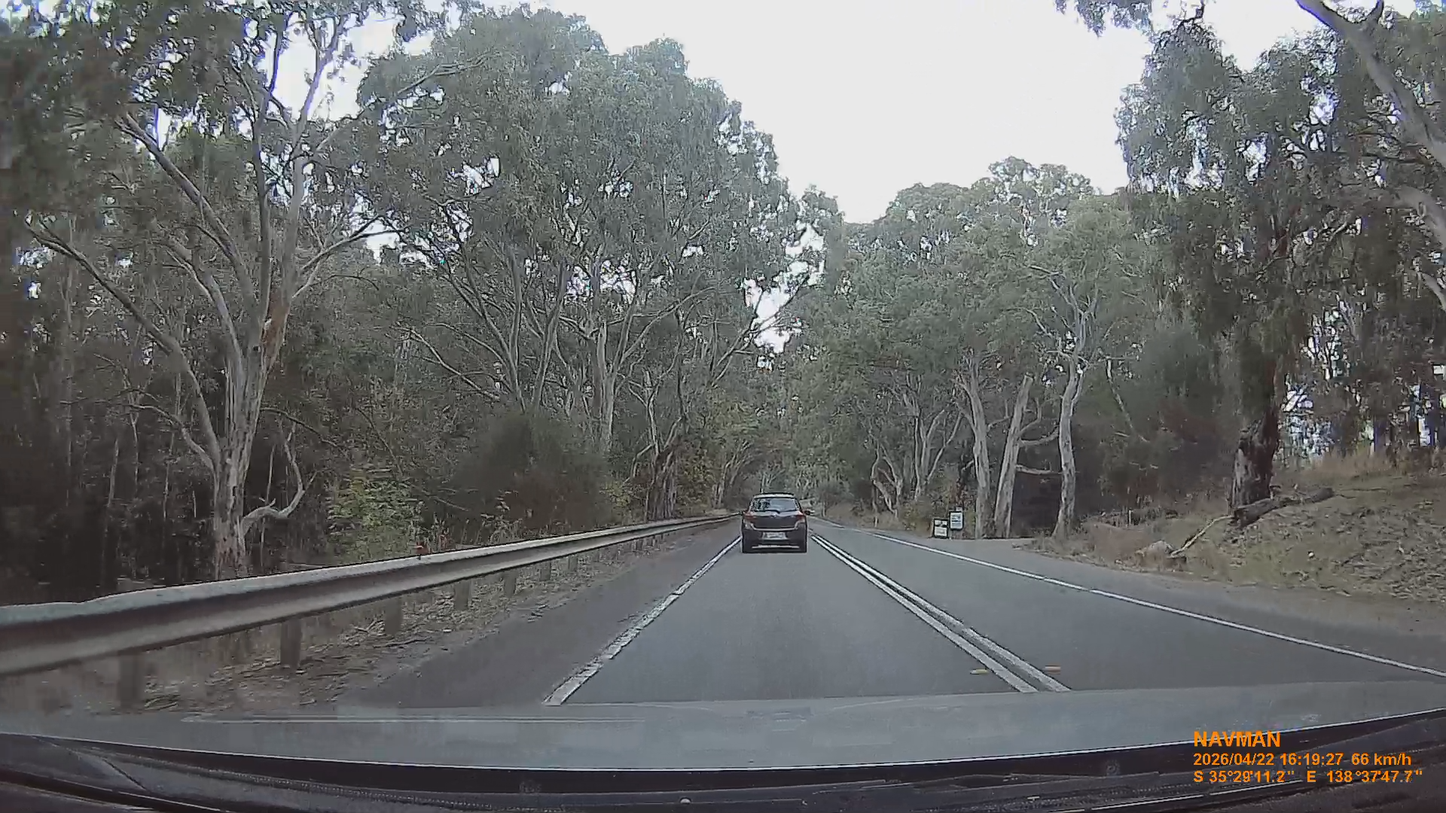road barriers: (2, 513, 730, 677)
